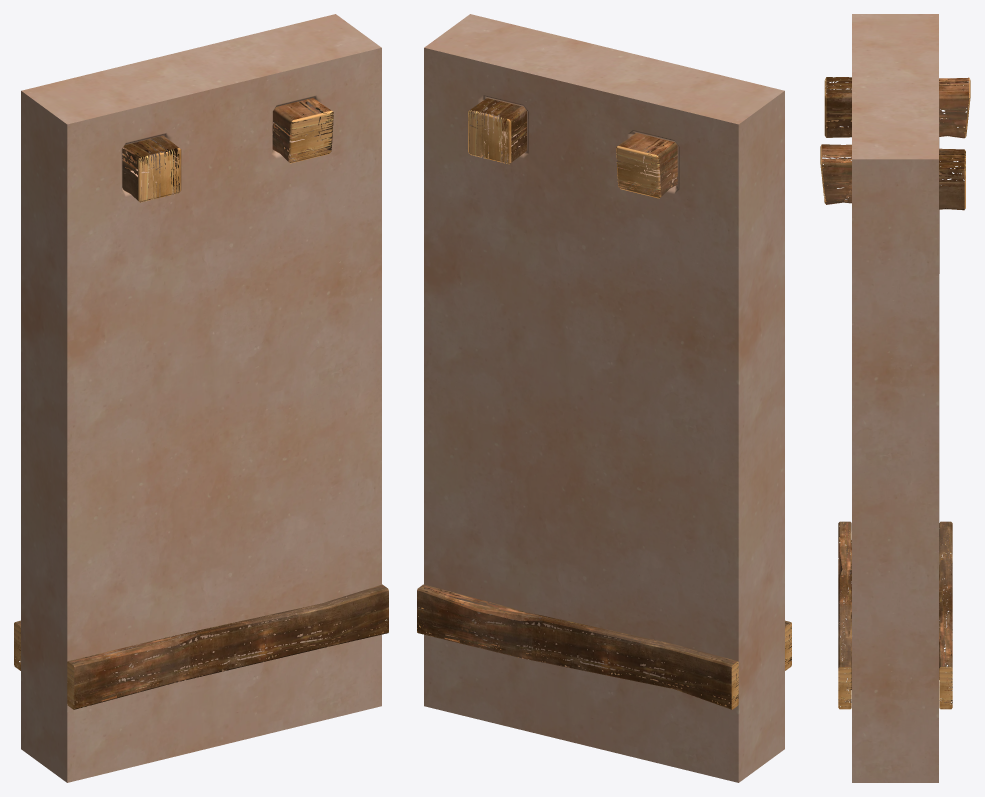
3 renders of one model, left to right at view 1: azimuth 30°, elevation 25°; view 2: azimuth 150°, elevation 25°; view 3: azimuth 270°, elevation 25°, orthographic. The views are drawn at different scales.
Parts seen in each view (by area): view 1: SM_BB_T4_Wall_Large_Narrow_LOD0; view 2: SM_BB_T4_Wall_Large_Narrow_LOD0; view 3: SM_BB_T4_Wall_Large_Narrow_LOD0.
Boxes of the visible parts, left/top/right/bottom form: SM_BB_T4_Wall_Large_Narrow_LOD0: left=14, top=14, right=388, bottom=782; SM_BB_T4_Wall_Large_Narrow_LOD0: left=417, top=14, right=791, bottom=782; SM_BB_T4_Wall_Large_Narrow_LOD0: left=820, top=14, right=970, bottom=782.
Size of the model in its own units: 1.5 by 3 by 0.6542.
2 materials, 2 textured.
